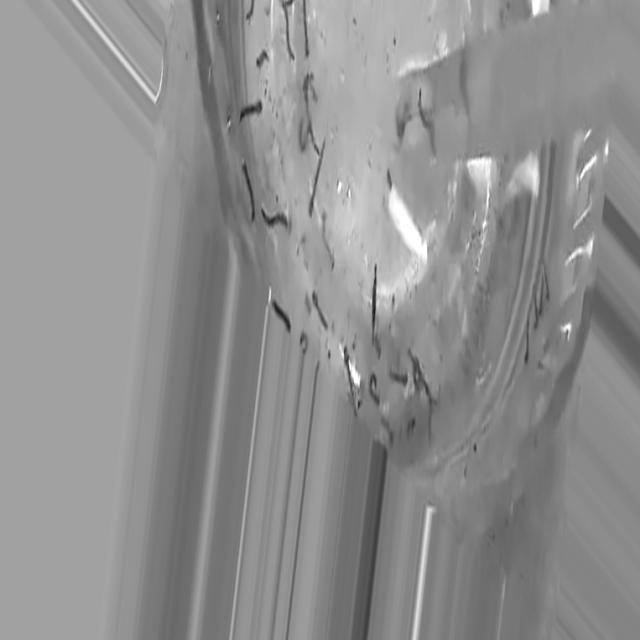larvas: (308, 141, 328, 213), (420, 88, 440, 152), (318, 215, 334, 267), (244, 164, 258, 220), (368, 265, 379, 335), (281, 5, 295, 59), (422, 374, 434, 436), (342, 348, 355, 403), (301, 0, 313, 57), (299, 76, 313, 118), (273, 300, 291, 332), (312, 294, 327, 328), (236, 101, 264, 119), (261, 207, 287, 226), (297, 118, 311, 150), (366, 373, 380, 404), (524, 314, 532, 362), (387, 367, 408, 384), (411, 359, 422, 389), (384, 418, 395, 443), (538, 277, 545, 316), (242, 0, 255, 20), (532, 292, 539, 328), (545, 266, 552, 302), (298, 334, 308, 355), (257, 50, 266, 66)
